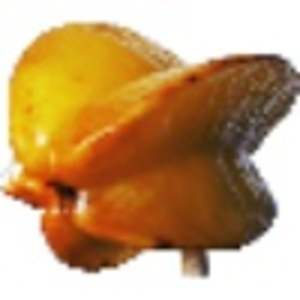carambola: (1, 19, 300, 280)
